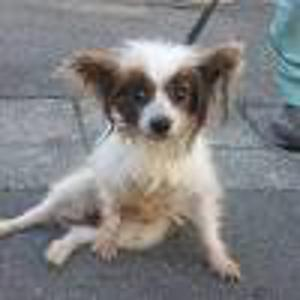yell: (0, 39, 244, 284)
